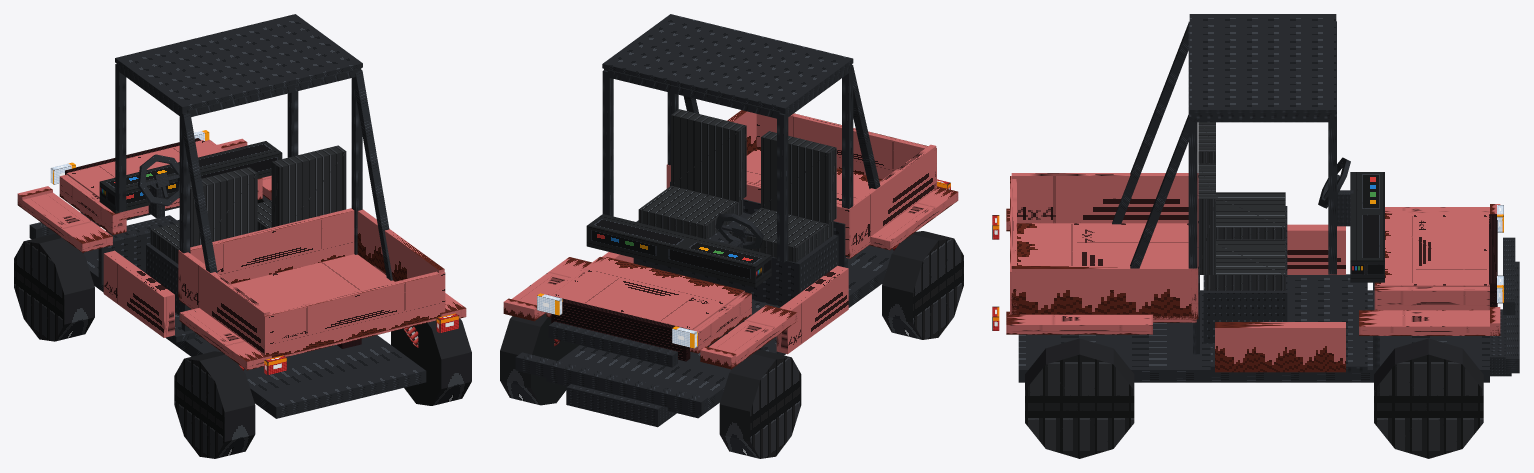
The model's file is ps1_utv_ranger.glb.
3 renders of one model, left to right at view 1: azimuth 30°, elevation 25°; view 2: azimuth 150°, elevation 25°; view 3: azimuth 270°, elevation 25°, orthographic. The views are drawn at different scales.
Parts seen in each view (by area): view 1: body, dump_bed, wheel_RL, wheel_FL, wheel_RR, steering_wheel; view 2: body, dump_bed, wheel_RL, wheel_FL, wheel_FR, steering_wheel, headlight_R, headlight_L; view 3: body, dump_bed, wheel_FR, wheel_RR.
Boxes of the visible parts, left/top/right/bottom form: body: left=17, top=14, right=466, bottom=418; dump_bed: left=178, top=208, right=445, bottom=357; wheel_RL: left=174, top=351, right=255, bottom=458; wheel_FL: left=14, top=234, right=94, bottom=341; wheel_RR: left=391, top=318, right=471, bottom=405; steering_wheel: left=138, top=154, right=179, bottom=206; body: left=503, top=14, right=958, bottom=427; dump_bed: left=666, top=110, right=936, bottom=258; wheel_RL: left=882, top=231, right=963, bottom=339; wheel_FL: left=719, top=349, right=801, bottom=458; wheel_FR: left=500, top=313, right=579, bottom=405; steering_wheel: left=715, top=213, right=763, bottom=248; headlight_R: left=537, top=293, right=562, bottom=315; headlight_L: left=672, top=326, right=697, bottom=348; body: left=1006, top=14, right=1519, bottom=382; dump_bed: left=1010, top=173, right=1198, bottom=322; wheel_FR: left=1374, top=338, right=1483, bottom=458; wheel_RR: left=1025, top=338, right=1134, bottom=458.
Bounding box in the file's own units: 1.78 × 2.1 × 3.02.
Materials: 4 (4 with a texture image).
